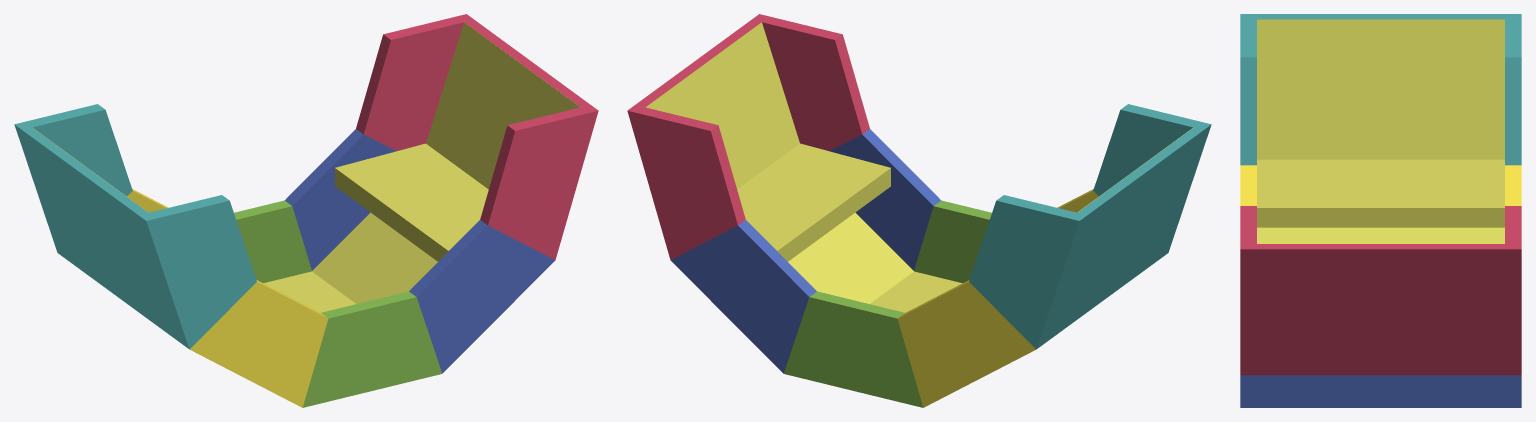
Rendered from D1_PLAYGROUND_5.fbx.
The picture shows the model from 3 angles, left to right: view 1: azimuth 30°, elevation 25°; view 2: azimuth 150°, elevation 25°; view 3: azimuth 270°, elevation 25°; orthographic projection. The views are drawn at different scales.
Parts seen in each view (by area): view 1: D1_PLAYGROUND_5; view 2: D1_PLAYGROUND_5; view 3: D1_PLAYGROUND_5.
Boxes of the visible parts, x1,y1,x2,y2 form: D1_PLAYGROUND_5: (14, 14, 598, 407); D1_PLAYGROUND_5: (627, 14, 1211, 407); D1_PLAYGROUND_5: (1240, 14, 1521, 407).
Size of the model in its own units: 200 by 95.15 by 101.
